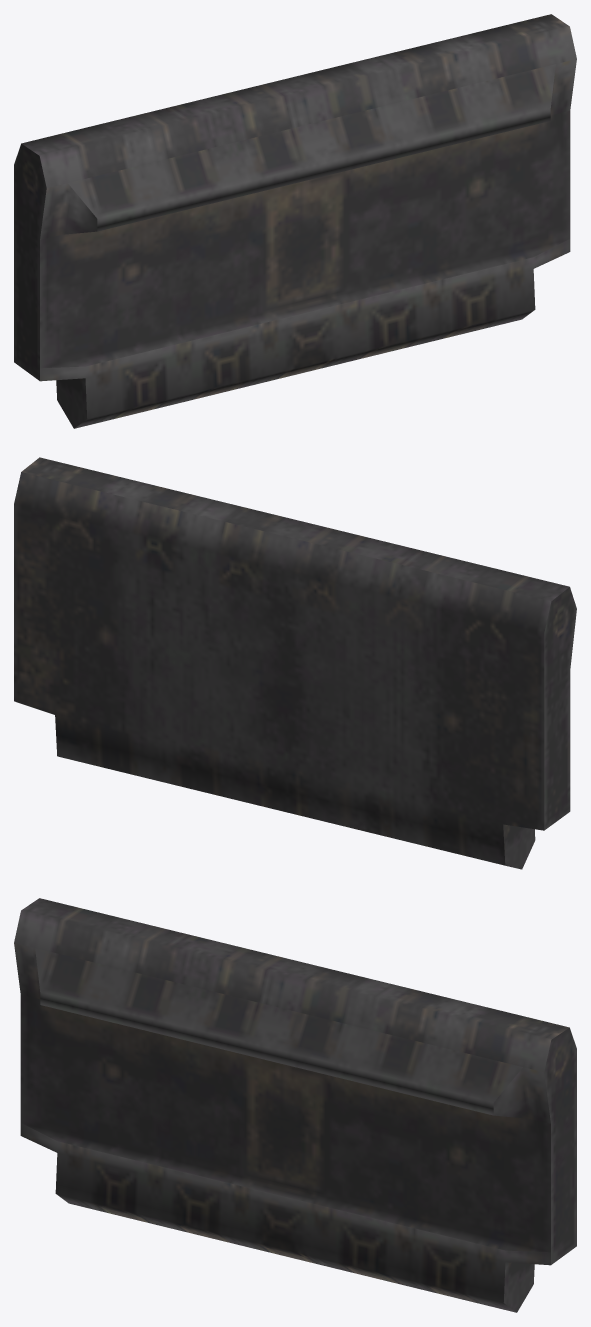
The picture shows the model from 3 angles, top to bottom: view 1: azimuth 30°, elevation 25°; view 2: azimuth 150°, elevation 25°; view 3: azimuth 330°, elevation 25°; orthographic projection.
Parts seen in each view (by area): view 1: set_0_group_0; view 2: set_0_group_0; view 3: set_0_group_0.
Boxes of the visible parts, box(x1,y1,x2,y2) form: set_0_group_0: box(14, 14, 576, 428); set_0_group_0: box(14, 457, 576, 869); set_0_group_0: box(14, 898, 576, 1312).
Size of the model in its own units: 0.4 by 0.2076 by 0.0586.
1 material, 1 textured.
